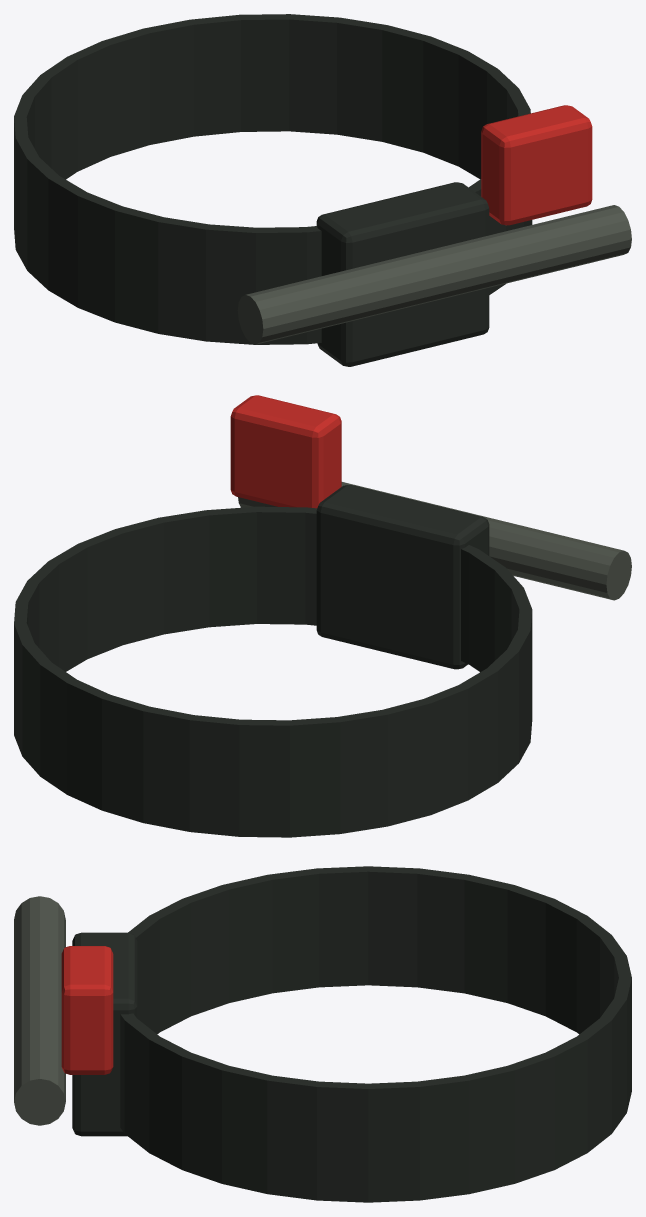
The model's file is BCMM_AppliedTourniquet.fbx.
The picture shows the model from 3 angles, top to bottom: view 1: azimuth 30°, elevation 25°; view 2: azimuth 150°, elevation 25°; view 3: azimuth 270°, elevation 25°; orthographic projection.
Parts seen in each view (by area): view 1: BCMM_AppliedTourniquet; view 2: BCMM_AppliedTourniquet; view 3: BCMM_AppliedTourniquet.
Part boxes in pixels (box(x1,y1,x2,y2)): BCMM_AppliedTourniquet: box(14, 14, 631, 366); BCMM_AppliedTourniquet: box(14, 395, 631, 837); BCMM_AppliedTourniquet: box(14, 866, 631, 1202).
Size of what is drawn, in the model's own units: 13.65 by 5.71 by 16.
